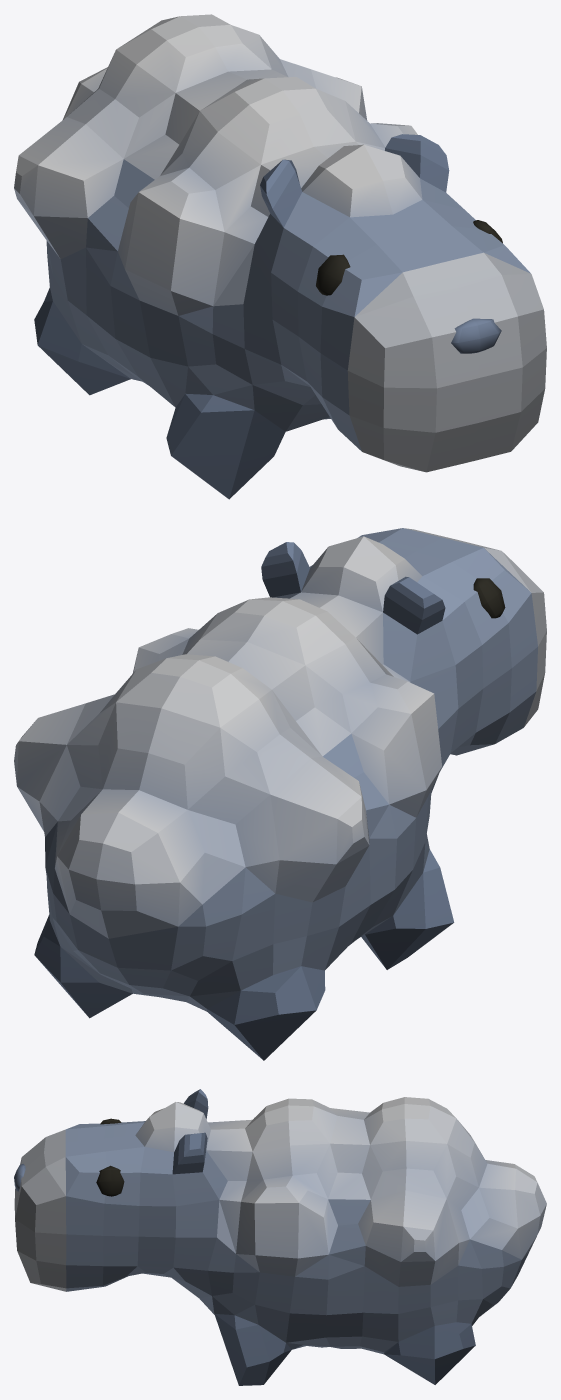
Rendered from Cloud_Capybara.glb.
The picture shows the model from 3 angles, top to bottom: view 1: azimuth 30°, elevation 25°; view 2: azimuth 150°, elevation 25°; view 3: azimuth 270°, elevation 25°; orthographic projection. The views are drawn at different scales.
Visible parts, largest first — view 1: Hunt_Cloud_Capybara; view 2: Hunt_Cloud_Capybara; view 3: Hunt_Cloud_Capybara.
Boxes of the visible parts, x1,y1,x2,y2 form: Hunt_Cloud_Capybara: [14, 14, 546, 499]; Hunt_Cloud_Capybara: [14, 528, 546, 1060]; Hunt_Cloud_Capybara: [14, 1089, 546, 1385].
Bounding box in the file's own units: 0.3658 × 0.3716 × 0.7066.
